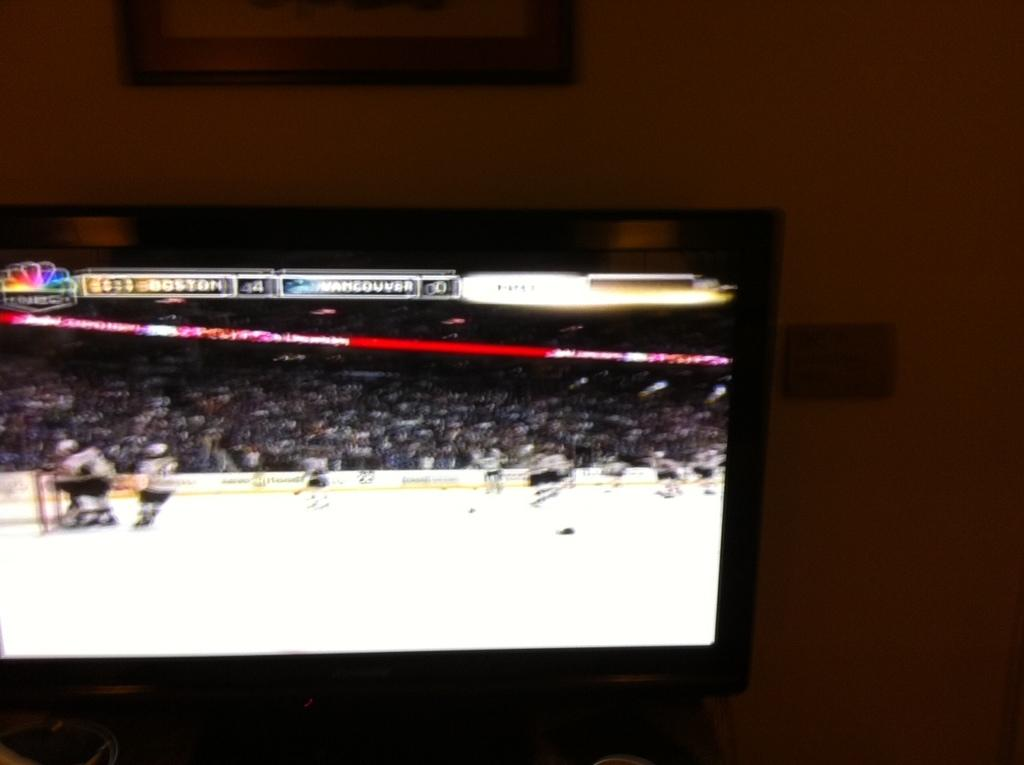Laptop: (0, 204, 783, 702)
